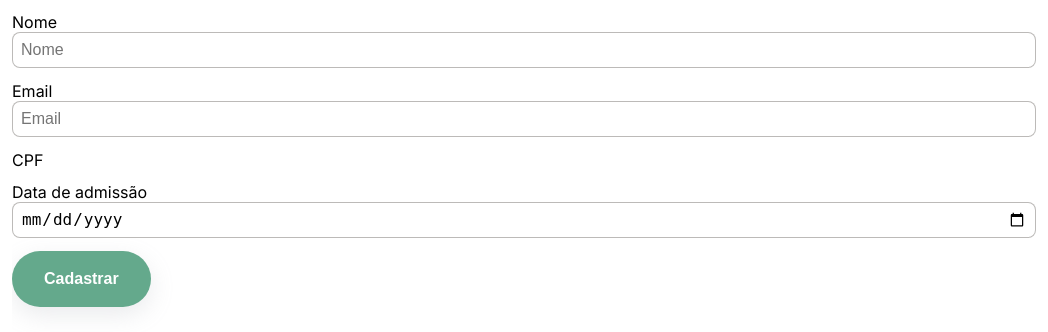
Test case: <RegisterForm /> › should be able to validate EmailField
The image size is (1048, 332).
Type "@clearout.io" into the field labelled "Email" at (524,119), box left=12, top=101, right=1036, bottom=137
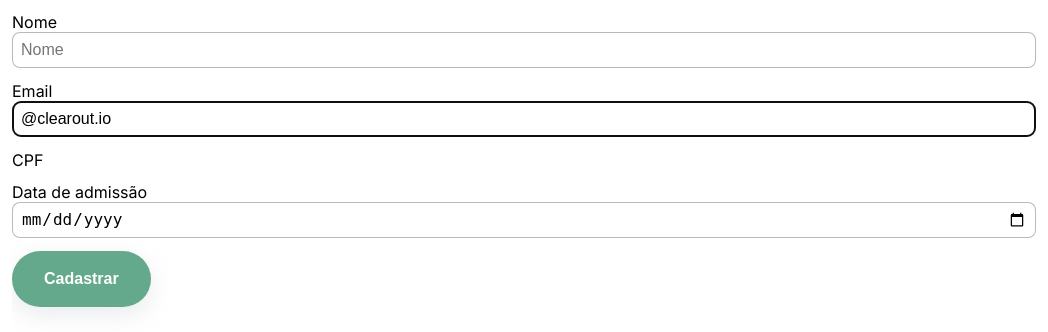
Click the button "Cadastrar" at (81,279), box left=12, top=251, right=151, bottom=307
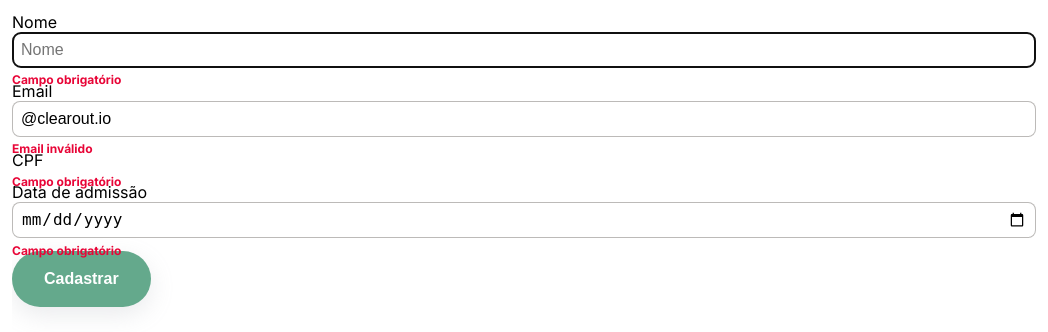
expect the text "Email inválido" is shown: met, box left=12, top=141, right=92, bottom=156
